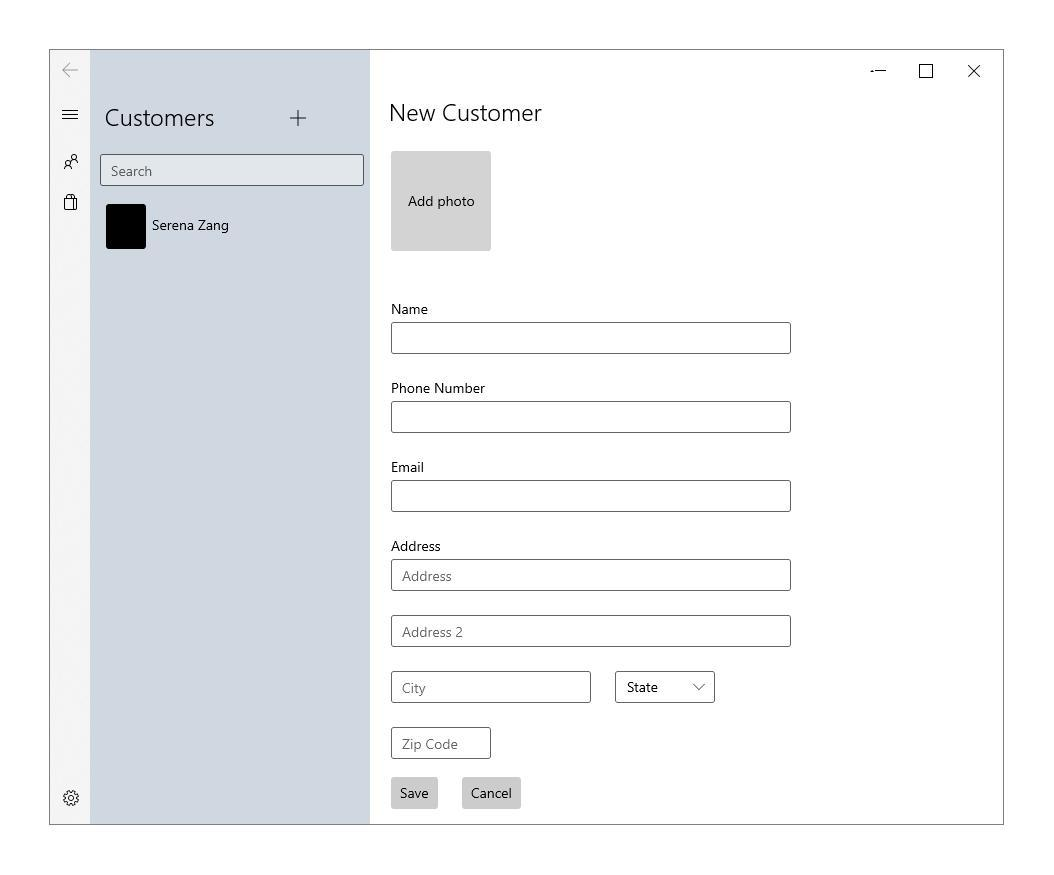button: (461, 776, 523, 812), (391, 776, 440, 810)
dropdown: (613, 671, 716, 706)
icon: (60, 149, 83, 174), (60, 789, 85, 810), (60, 194, 81, 214), (62, 61, 81, 80), (290, 108, 308, 128), (58, 108, 82, 123)
input: (390, 478, 794, 517), (390, 613, 794, 650), (388, 400, 795, 436), (390, 320, 794, 356), (390, 557, 793, 593), (99, 152, 367, 188), (390, 668, 594, 707), (388, 727, 493, 763)
label: (385, 98, 544, 126), (101, 99, 222, 132), (388, 381, 489, 397), (150, 220, 231, 234), (391, 538, 447, 554), (390, 303, 430, 318), (390, 460, 428, 475)
